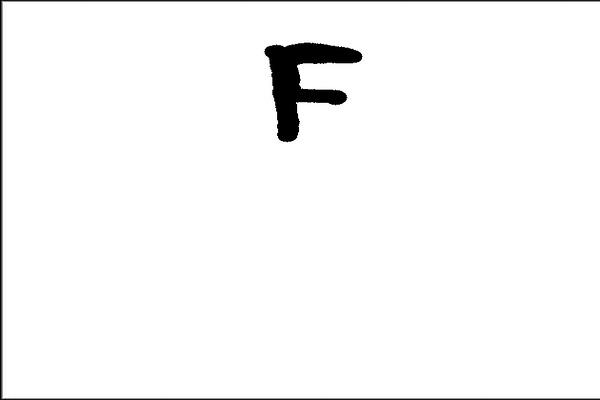F: (259, 38, 365, 145)
